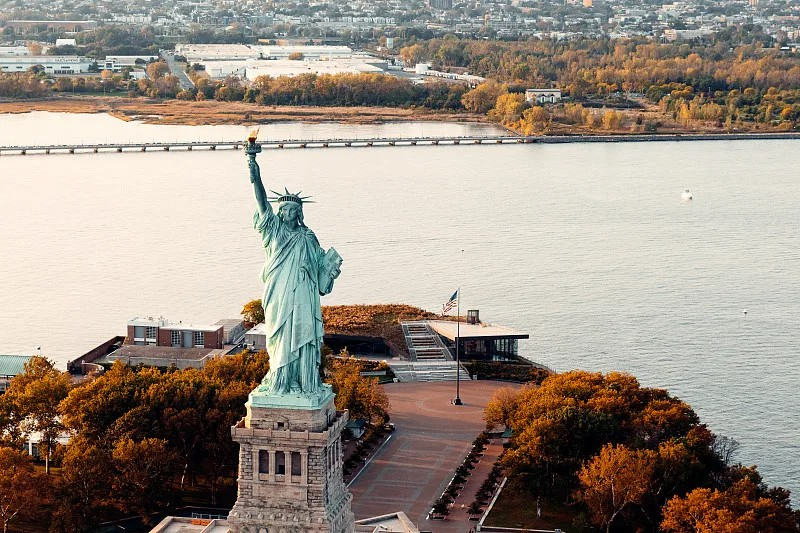SL: (227, 129, 355, 533)
